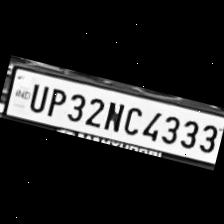2: (81, 91, 107, 128)
3: (195, 118, 222, 154), (62, 86, 88, 122), (156, 109, 182, 144), (176, 114, 201, 148)
4: (139, 104, 164, 139)
C: (119, 100, 144, 136)
N: (100, 95, 126, 131)
P: (42, 82, 68, 118)
U: (22, 78, 50, 112)
